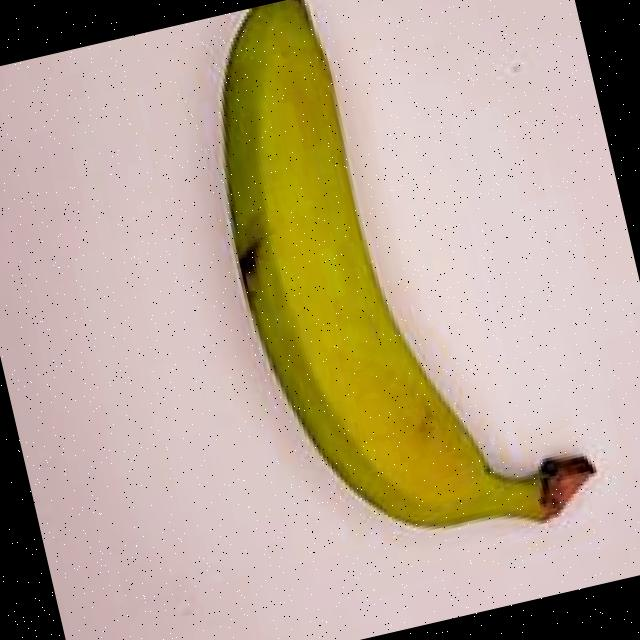Unripe: (107, 0, 636, 637)
